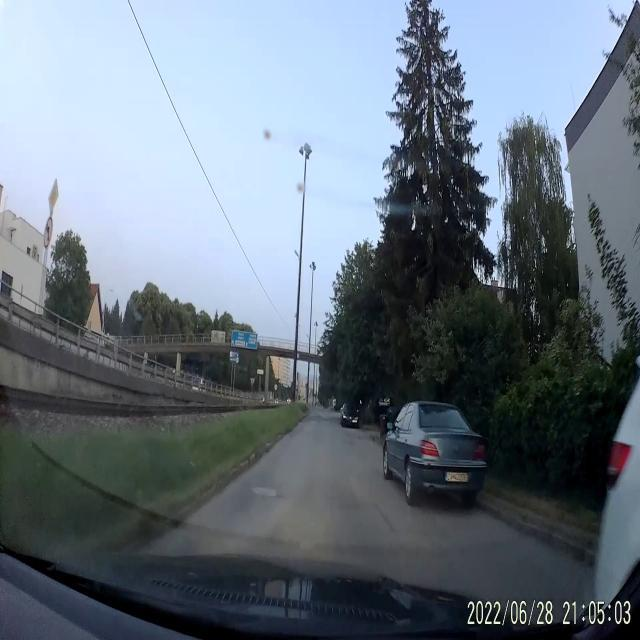Pothole: (249, 478, 281, 502)
